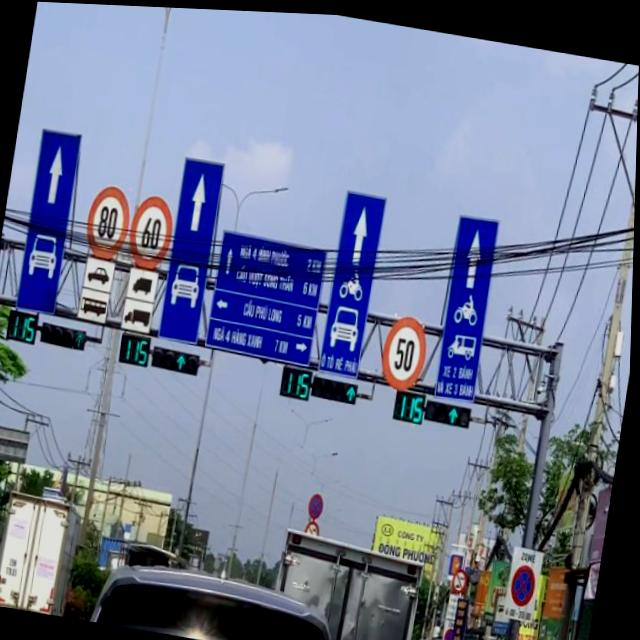Cam dung xe va do xe: (510, 555, 542, 605), (307, 487, 328, 518)
Toc do toi da cho phep: (83, 180, 134, 262), (380, 310, 431, 391), (127, 192, 179, 270)
